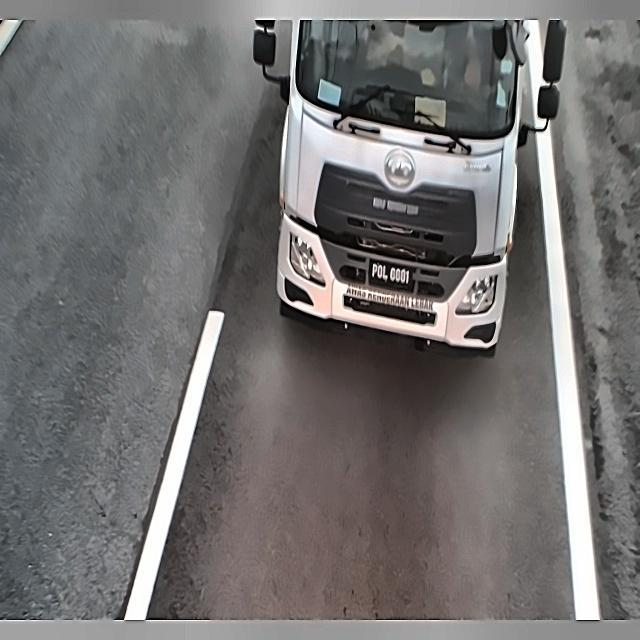car: (368, 252, 413, 297)
